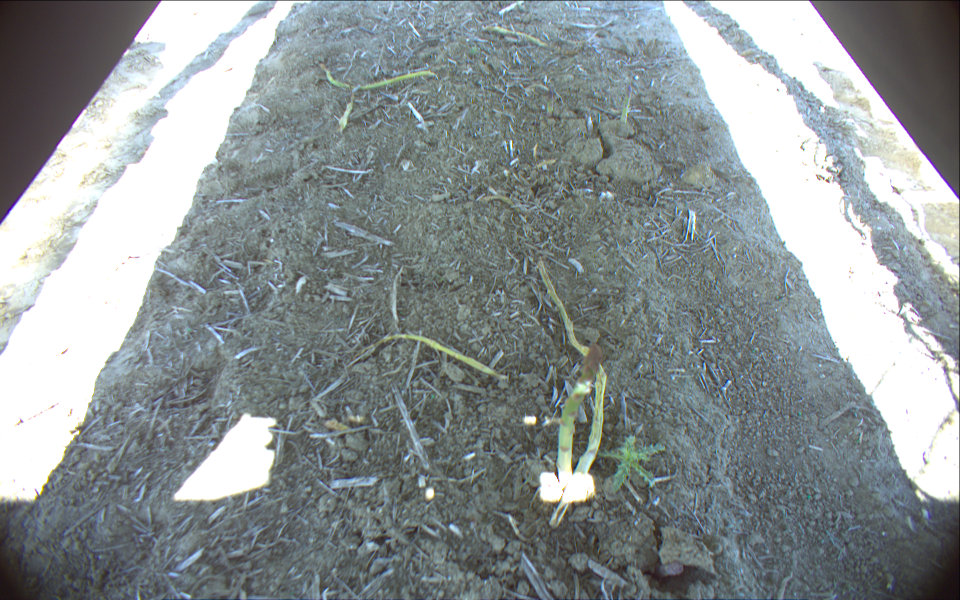aspa: (554, 342, 603, 488)
